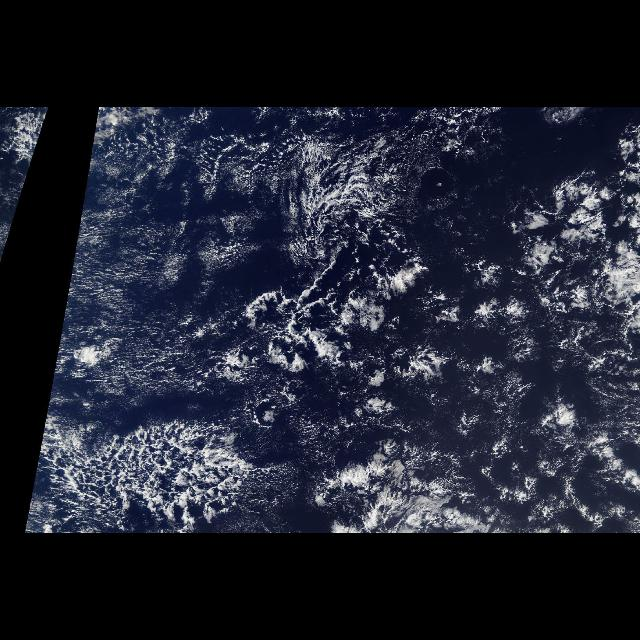Fish: (34, 408, 256, 534)
Gravel: (242, 253, 493, 389), (22, 408, 296, 532)
Sugar: (56, 144, 254, 398)
